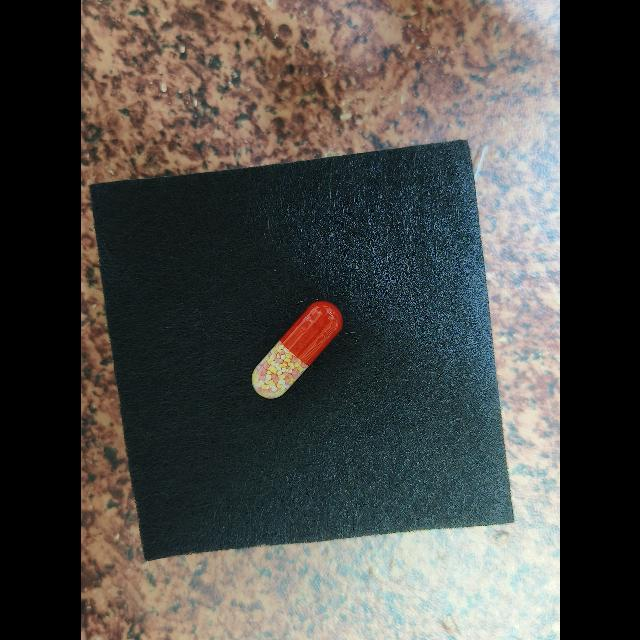Intact Capsule: (251, 301, 342, 399)
